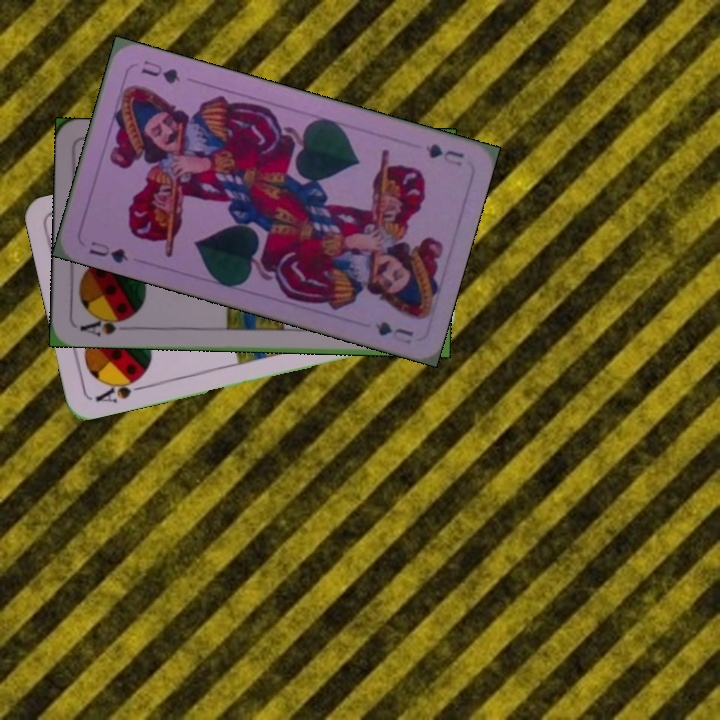GU: (421, 139, 467, 169), (84, 237, 131, 266)
SA: (91, 372, 149, 406), (76, 312, 134, 339)
